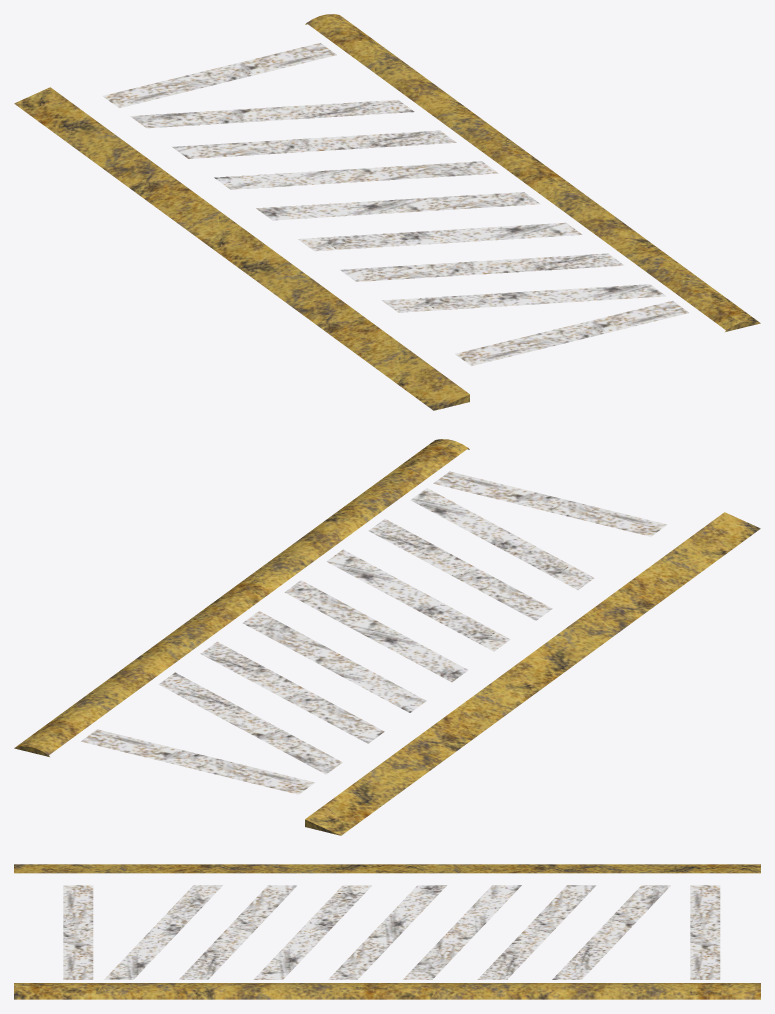
Rendered from curbentrance4m_na.fbx.
3 views of the same model, one above another, from view 1: azimuth 30°, elevation 25°; view 2: azimuth 150°, elevation 25°; view 3: azimuth 270°, elevation 25° (orthographic). The views are drawn at different scales.
Visible parts, largest first — view 1: mesh_0, mesh_1; view 2: mesh_0, mesh_1; view 3: mesh_0, mesh_1.
Part boxes in pixels (bbox=[...]): mesh_0: bbox=[103, 43, 688, 365]; mesh_1: bbox=[14, 14, 760, 410]; mesh_0: bbox=[81, 471, 667, 794]; mesh_1: bbox=[14, 439, 760, 835]; mesh_0: bbox=[63, 885, 720, 979]; mesh_1: bbox=[14, 864, 760, 999].
Size of the model in its own units: 450 by 17 by 1000.
Materials: 2 (2 with a texture image).
